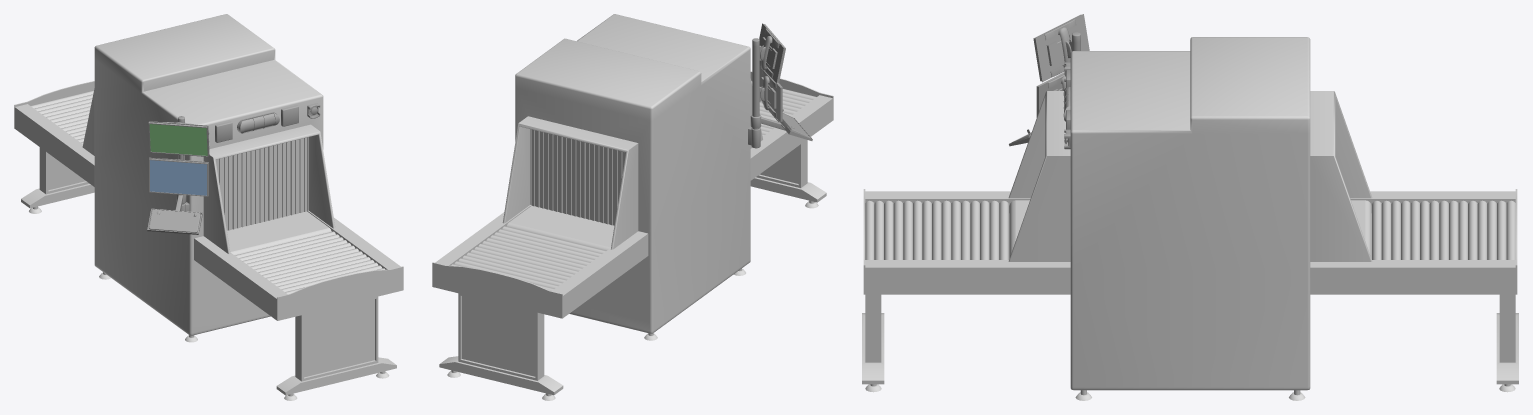
File: Introscope.fbx
3 views of the same model, side by side, from view 1: azimuth 30°, elevation 25°; view 2: azimuth 150°, elevation 25°; view 3: azimuth 270°, elevation 25° (orthographic). The views are drawn at different scales.
Visible parts, largest first — view 1: Introscope, Introscope_Controls; view 2: Introscope, Introscope_Controls; view 3: Introscope, Introscope_Controls.
Boxes of the visible parts, <box> form: Introscope: <box>14,14,403,400</box>; Introscope_Controls: <box>147,116,209,234</box>; Introscope: <box>432,14,833,400</box>; Introscope_Controls: <box>750,23,812,140</box>; Introscope: <box>862,37,1518,400</box>; Introscope_Controls: <box>1009,14,1089,146</box>.
Bounding box in the file's own units: 166 × 196 × 411.
